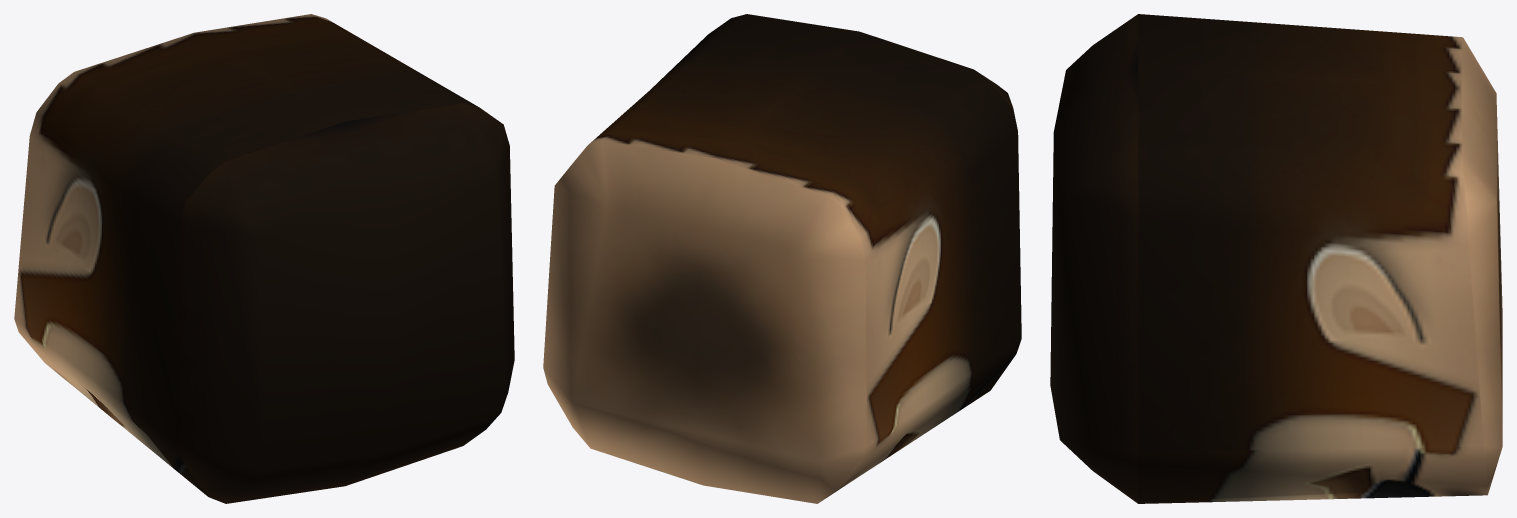
File: Avatar_Cowboy_H_Head_1_6265406f__Avatar_Cowboy_C_5edd63eb_c1f257.obj
3 renders of one model, left to right at view 1: azimuth 30°, elevation 25°; view 2: azimuth 150°, elevation 25°; view 3: azimuth 270°, elevation 25°, orthographic. The views are drawn at different scales.
Size of the model in its own units: 0.6857 by 0.7049 by 0.7416.
1 material, 1 textured.
